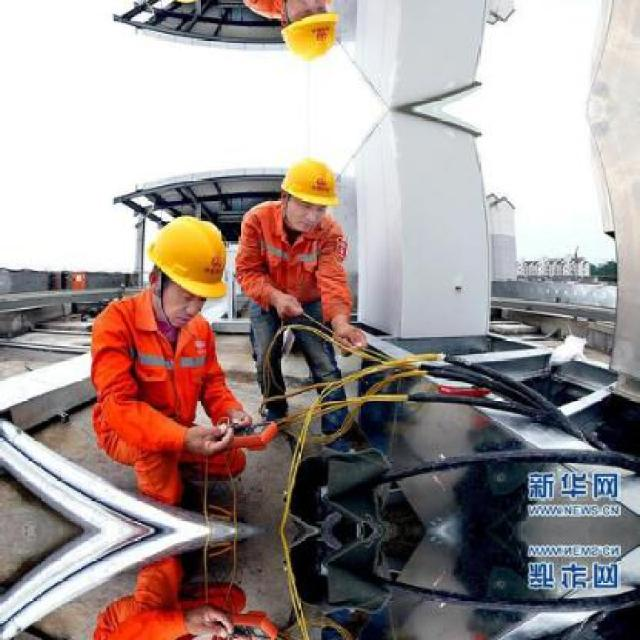helmet: (140, 204, 232, 316), (273, 148, 342, 234), (272, 0, 343, 69)
